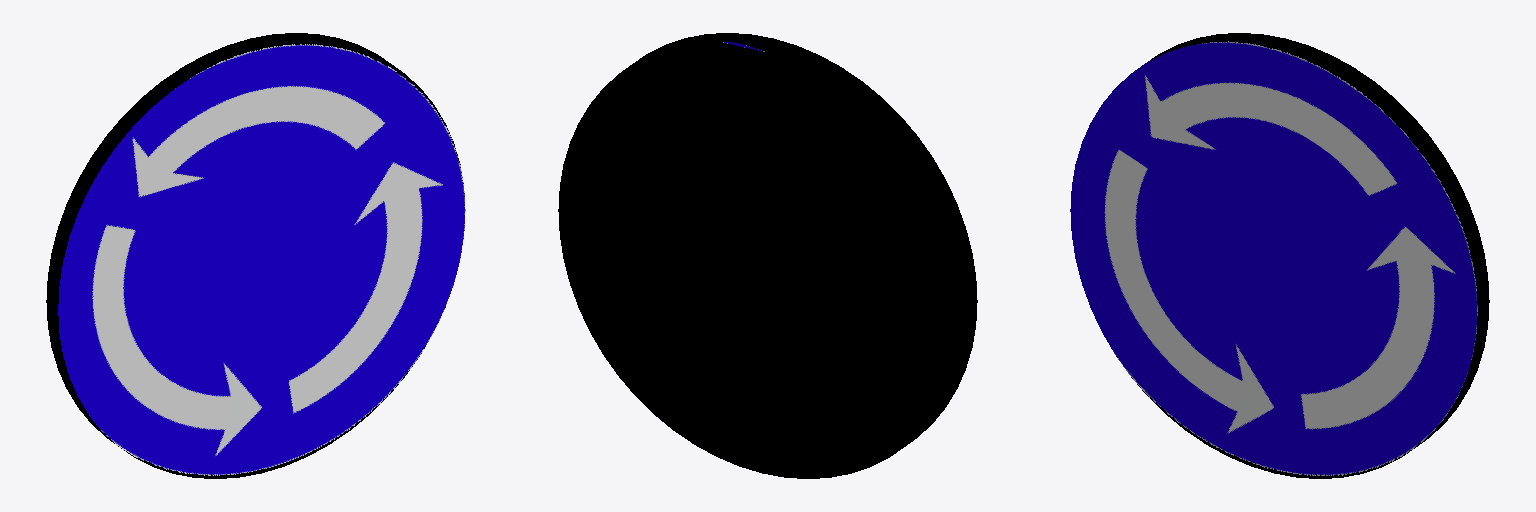
3 renders of one model, left to right at view 1: azimuth 30°, elevation 25°; view 2: azimuth 150°, elevation 25°; view 3: azimuth 330°, elevation 25°, orthographic.
Visible parts, largest first — view 1: roundabout; view 2: roundabout; view 3: roundabout.
Part boxes in pixels (x1,y1,x2,y2): roundabout: (46, 33, 465, 478); roundabout: (558, 33, 977, 478); roundabout: (1070, 33, 1489, 478).
Size of the model in its own units: 2 by 2 by 0.1.
1 materials, 1 textured.